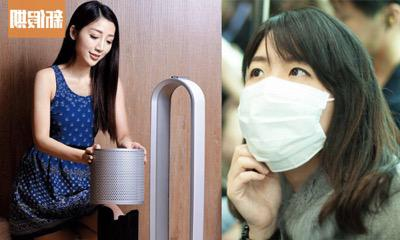with_mask: (236, 53, 333, 174)
without_mask: (74, 25, 117, 69)
